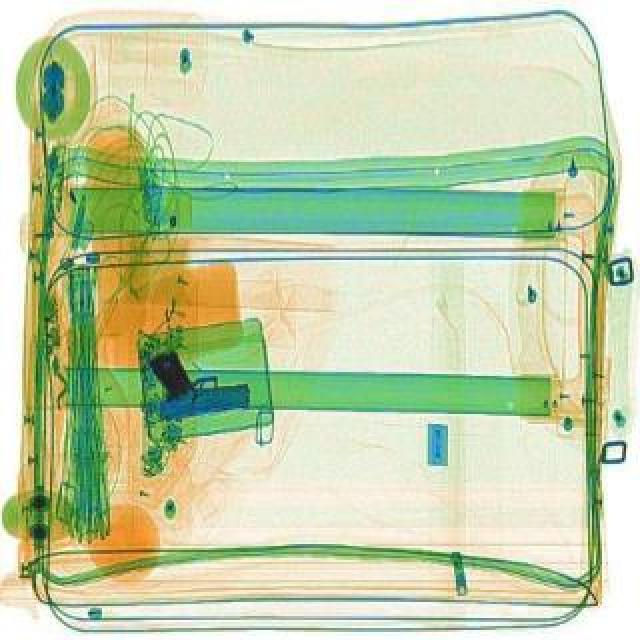gun: (144, 338, 252, 420)
